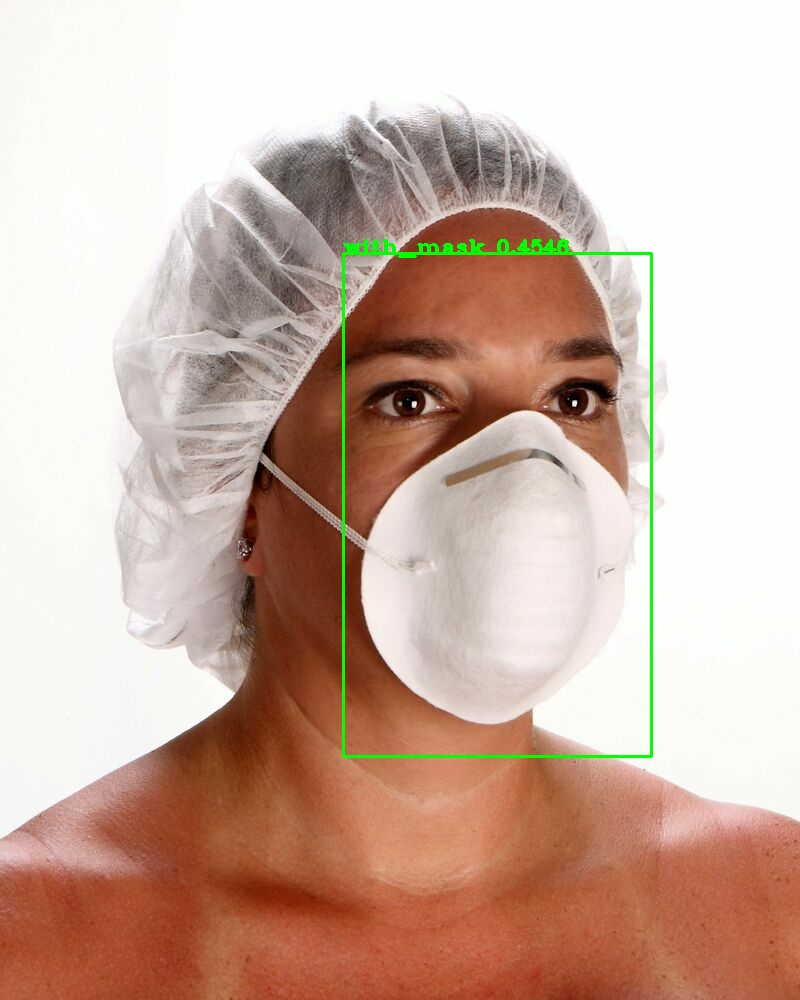with_mask: (224, 183, 651, 773)
